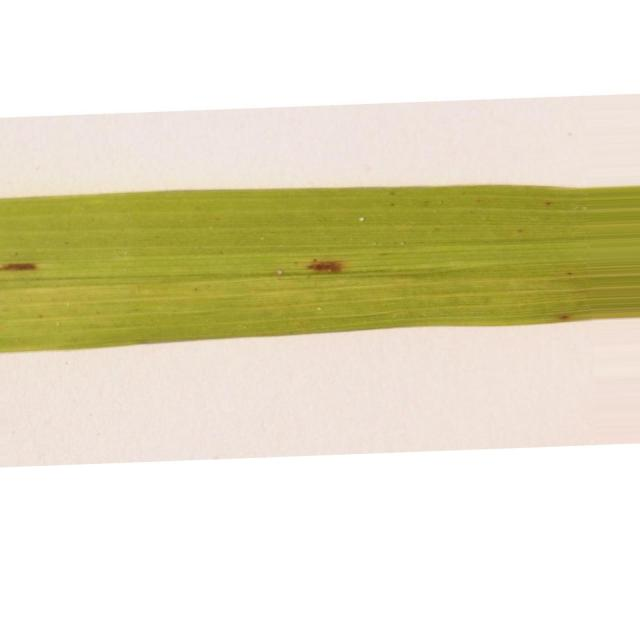Brown_Spot: (308, 260, 342, 272), (0, 262, 36, 271), (556, 314, 571, 321)
